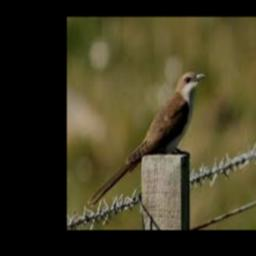Cuckoo: (88, 72, 206, 205)
